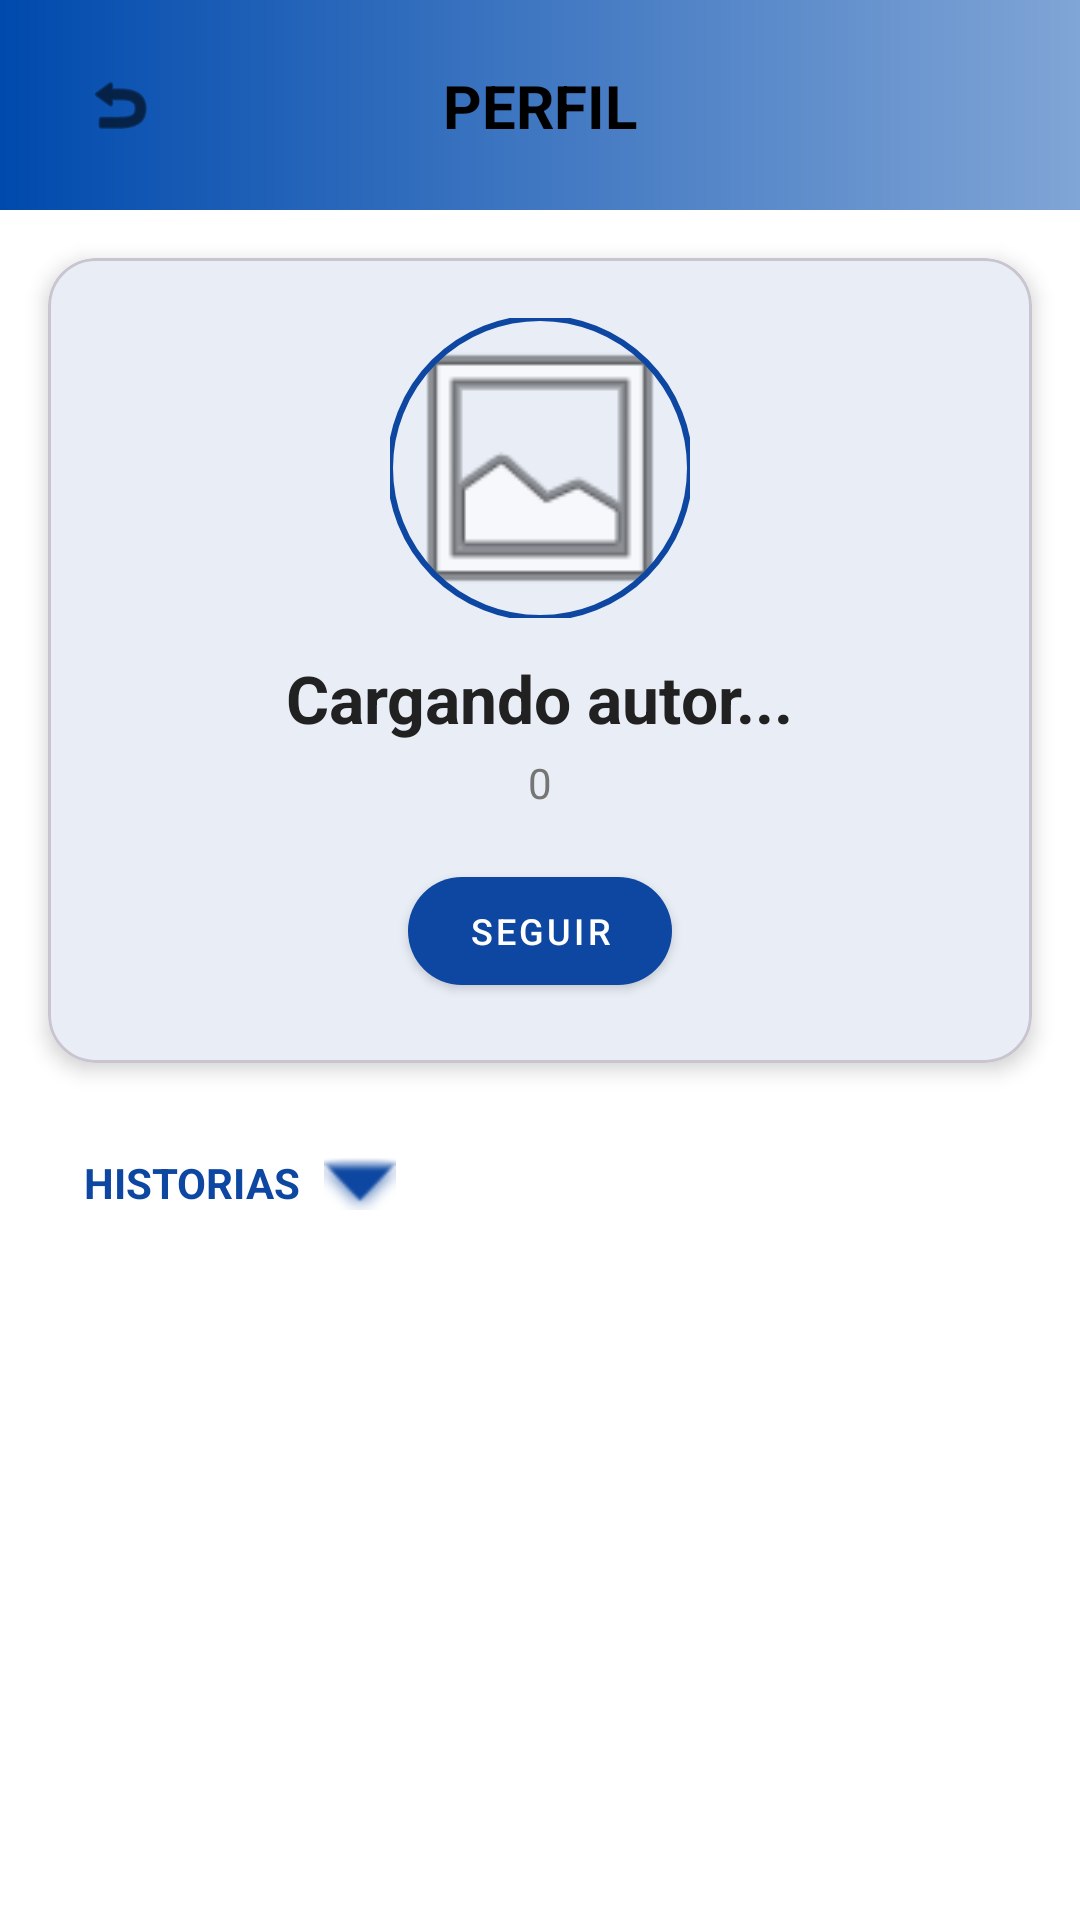

Icon click points for this 1080w x 1920h phone screenshot, format [x,y]:
Volver atrás: [121,105]
